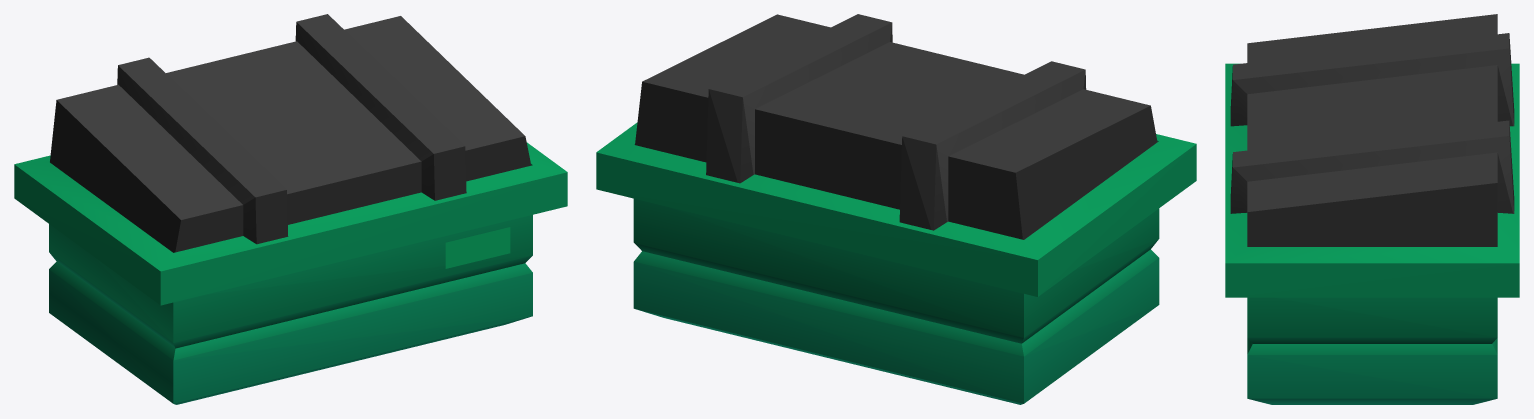
3 renders of one model, left to right at view 1: azimuth 30°, elevation 25°; view 2: azimuth 150°, elevation 25°; view 3: azimuth 270°, elevation 25°, orthographic. The views are drawn at different scales.
Parts seen in each view (by area): view 1: dumpster; view 2: dumpster; view 3: dumpster.
Boxes of the visible parts, x1,y1,x2,y2 form: dumpster: (14, 14, 567, 404); dumpster: (596, 14, 1196, 404); dumpster: (1225, 14, 1519, 404).
Size of the model in its own units: 2.14 by 1.2 by 1.33.
